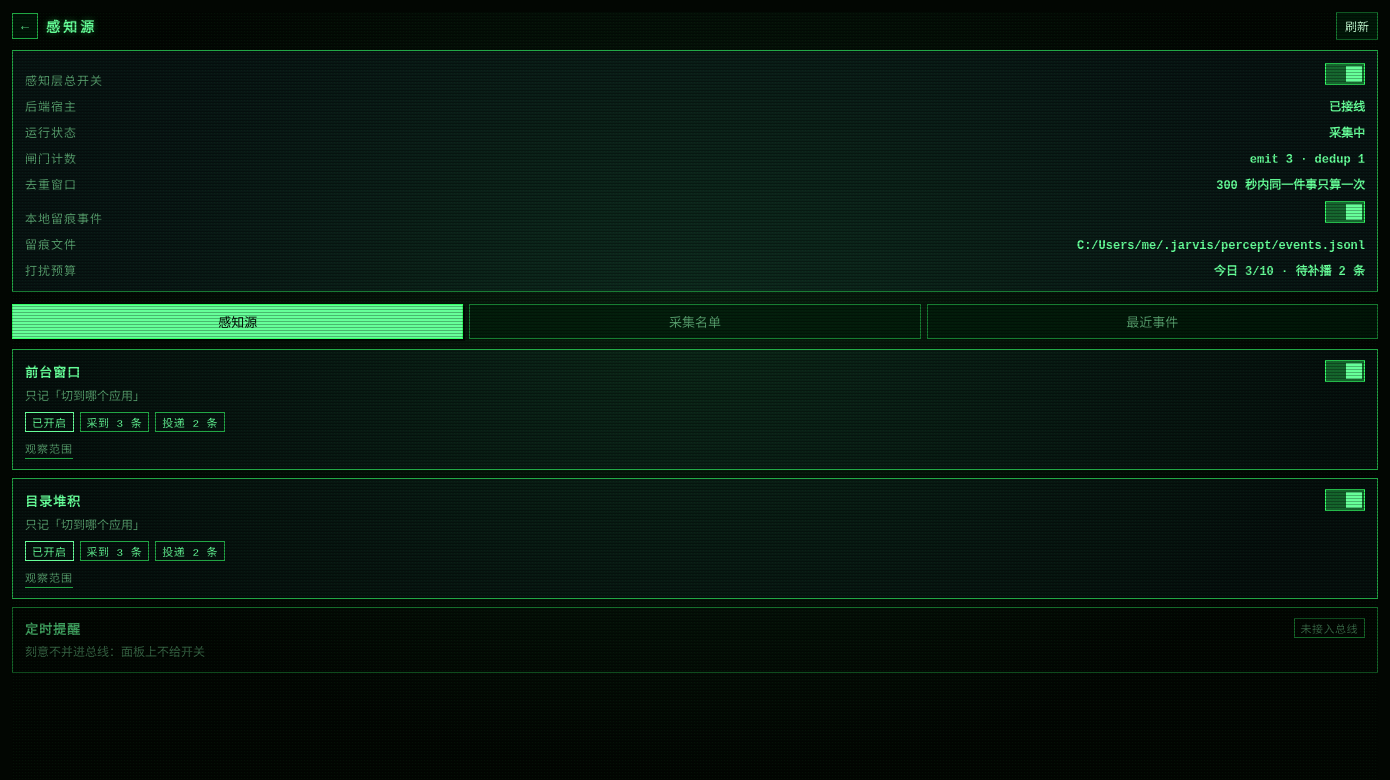
Test case: PerceptSourcePanel › 总开关关掉：即时提交 {enabled:false}，并用回执快照刷新（不是乐观更新）
Click the switch with test id "percept-master-toggle". click: (1345,74)
box: x1=1325 y1=63 x2=1365 y2=85
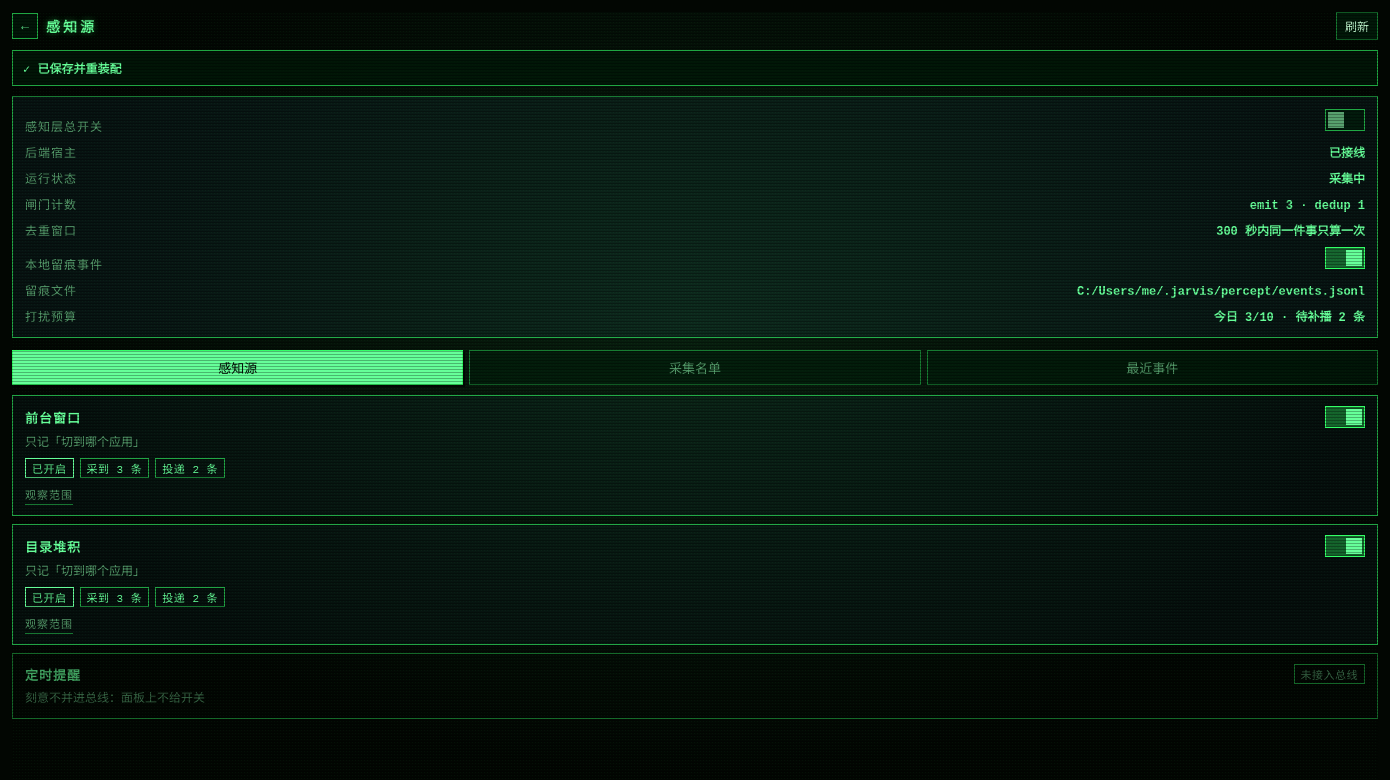
Expected: the text with test id "percept-notice" shows "已保存并重装配", x1=23 y1=63 x2=121 y2=77
